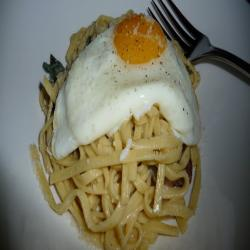carbonara: (41, 128, 205, 248)
omelette: (51, 20, 199, 144)
